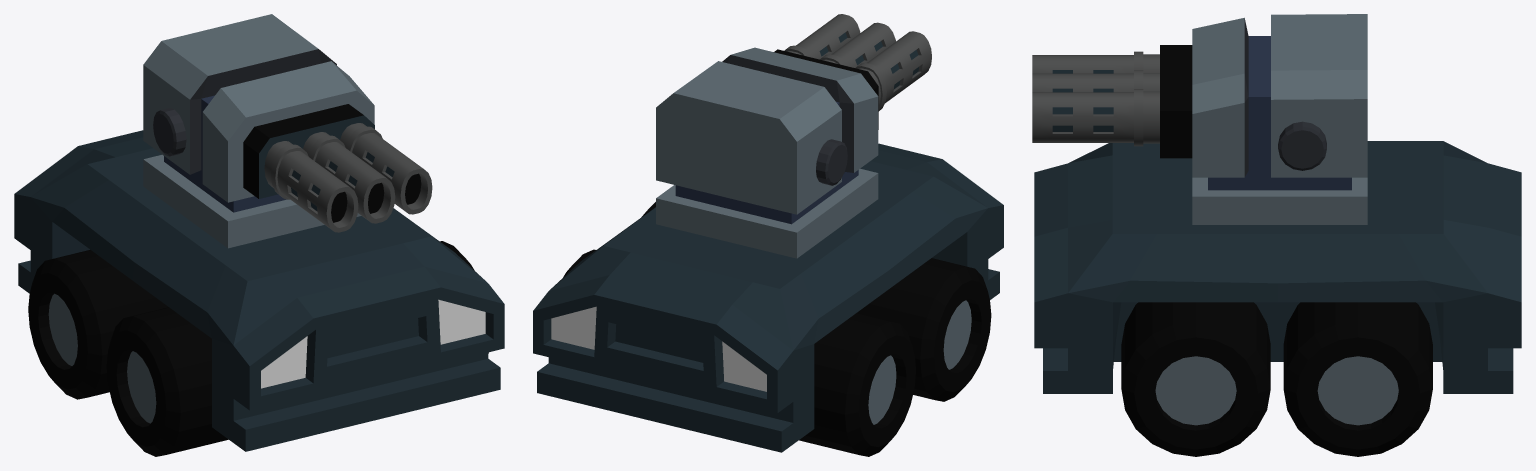
File: triple gun car.fbx
The picture shows the model from 3 angles, left to right: view 1: azimuth 30°, elevation 25°; view 2: azimuth 150°, elevation 25°; view 3: azimuth 270°, elevation 25°; orthographic projection. The views are drawn at different scales.
Visible parts, largest first — view 1: Cylinder.114; view 2: Cylinder.114; view 3: Cylinder.114.
Part boxes in pixels (x1,y1,x2,y2): Cylinder.114: [14, 14, 504, 456]; Cylinder.114: [533, 14, 1003, 456]; Cylinder.114: [1032, 14, 1521, 456].
Bounding box in the file's own units: 255 × 244 × 322.
